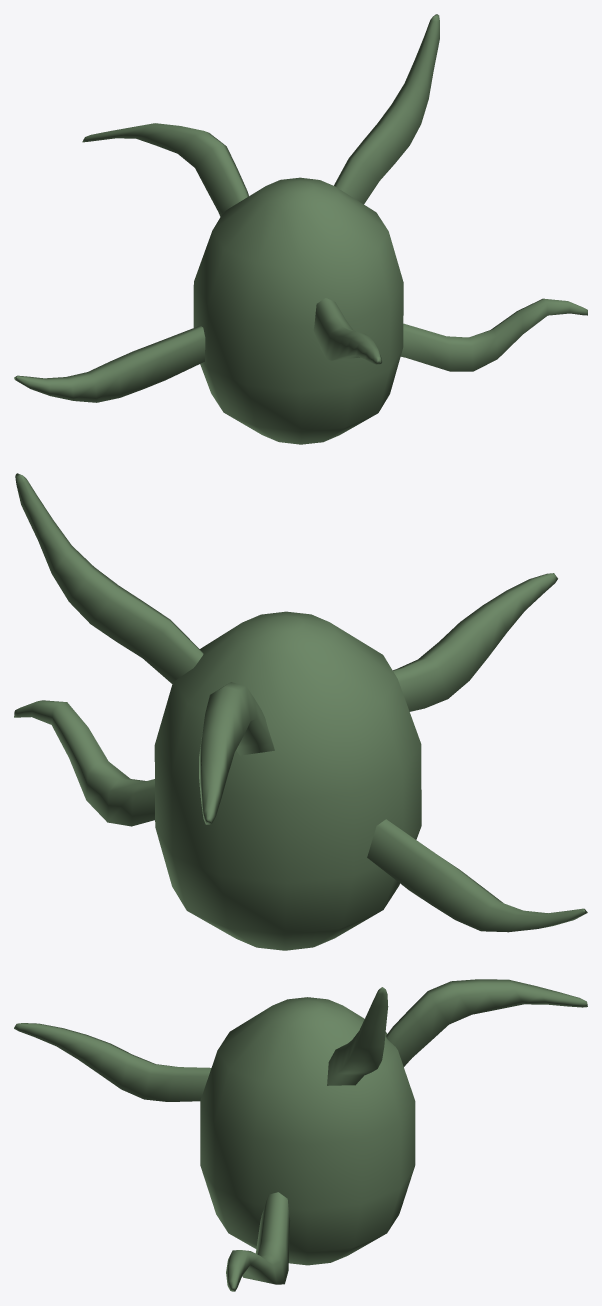
The model's file is Food_Potato_Full.fbx.
3 renders of one model, top to bottom at view 1: azimuth 30°, elevation 25°; view 2: azimuth 150°, elevation 25°; view 3: azimuth 270°, elevation 25°, orthographic. The views are drawn at different scales.
Parts seen in each view (by area): view 1: Potato_Full; view 2: Potato_Full; view 3: Potato_Full.
Part boxes in pixels (x1,y1,x2,y2): Potato_Full: (14,14,587,444); Potato_Full: (14,473,587,950); Potato_Full: (14,979,587,1291).
Size of the model in its own units: 54.16 by 35.34 by 52.24.
